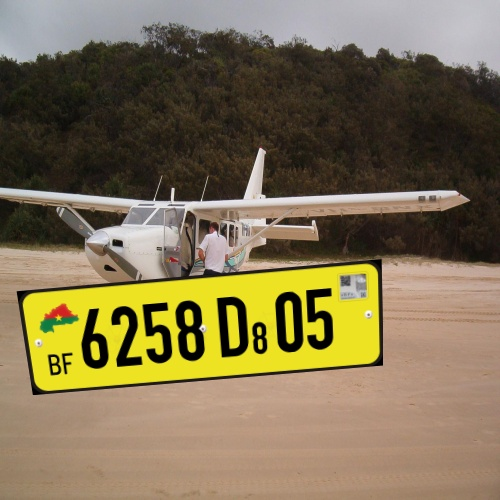plate: (12, 228, 396, 416)
